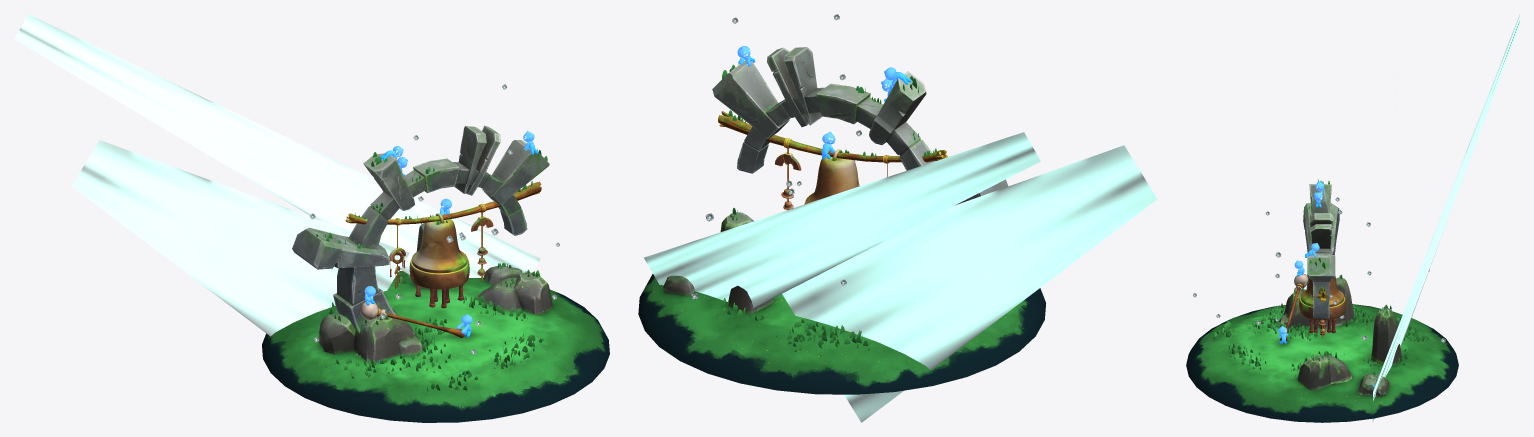
File: SpritiBell.fbx
3 renders of one model, left to right at view 1: azimuth 30°, elevation 25°; view 2: azimuth 150°, elevation 25°; view 3: azimuth 270°, elevation 25°, orthographic. The views are drawn at different scales.
Visible parts, largest first — view 1: Ground_low, Cylinder.002, Cylinder.107, Arch_low, Rocks_low, Bell_low, Cylinder.119, Wood_low, Elves_low, Hammer_low; view 2: Cylinder.002, Cylinder.107, Ground_low, Arch_low, Bell_low, Wood_low, Rocks_low, Cylinder.119, Elves_low, Carillion_1_low; view 3: Ground_low, Rocks_low, Arch_low, Cylinder.107, Cylinder.119, Bell_low, Elves_low, Hammer_low.
Boxes of the visible parts, left/top/right/bottom form: Ground_low: left=262, top=271, right=609, bottom=422; Cylinder.002: left=71, top=140, right=409, bottom=336; Cylinder.107: left=14, top=14, right=540, bottom=277; Arch_low: left=292, top=125, right=549, bottom=332; Rocks_low: left=319, top=222, right=552, bottom=362; Bell_low: left=409, top=213, right=469, bottom=308; Cylinder.119: left=318, top=274, right=543, bottom=394; Wood_low: left=345, top=181, right=541, bottom=225; Elves_low: left=364, top=131, right=538, bottom=337; Hammer_low: left=360, top=302, right=464, bottom=337; Cylinder.002: left=782, top=145, right=1157, bottom=422; Cylinder.107: left=644, top=132, right=1040, bottom=307; Ground_low: left=638, top=274, right=1045, bottom=394; Arch_low: left=712, top=47, right=1008, bottom=205; Bell_low: left=804, top=149, right=859, bottom=204; Wood_low: left=718, top=111, right=947, bottom=163; Rocks_low: left=663, top=212, right=773, bottom=313; Cylinder.119: left=723, top=298, right=870, bottom=356; Elves_low: left=737, top=46, right=911, bottom=159; Carillion_1_low: left=775, top=148, right=801, bottom=209; Ground_low: left=1186, top=304, right=1458, bottom=422; Rocks_low: left=1277, top=277, right=1401, bottom=397; Arch_low: left=1303, top=184, right=1339, bottom=318; Cylinder.107: left=1372, top=14, right=1519, bottom=422; Cylinder.119: left=1213, top=303, right=1428, bottom=376; Bell_low: left=1299, top=276, right=1345, bottom=335; Elves_low: left=1278, top=181, right=1324, bottom=343; Hammer_low: left=1280, top=274, right=1308, bottom=341.
Size of the model in its own units: 751 by 556 by 593.
